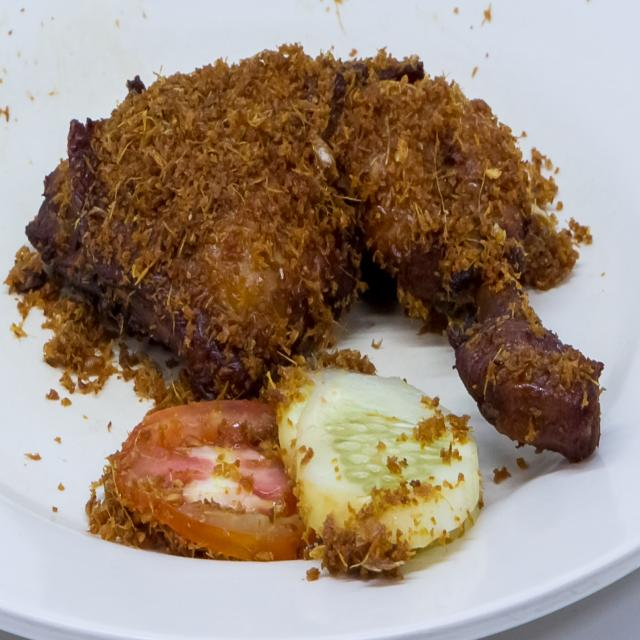Ayam-Goreng-Lengkuas: (19, 32, 620, 476)
